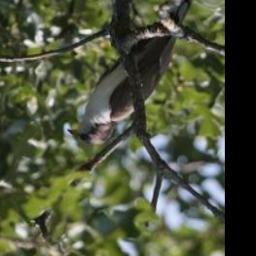Cuckoo: (65, 0, 208, 146)
